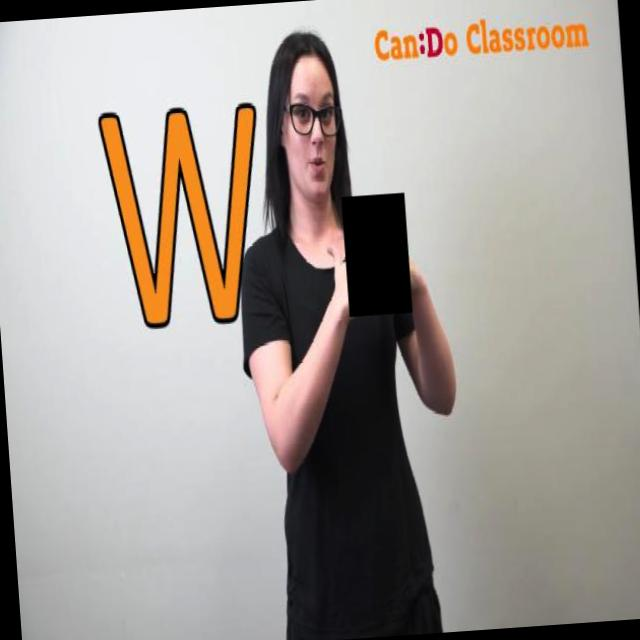W: (343, 194, 413, 318)
